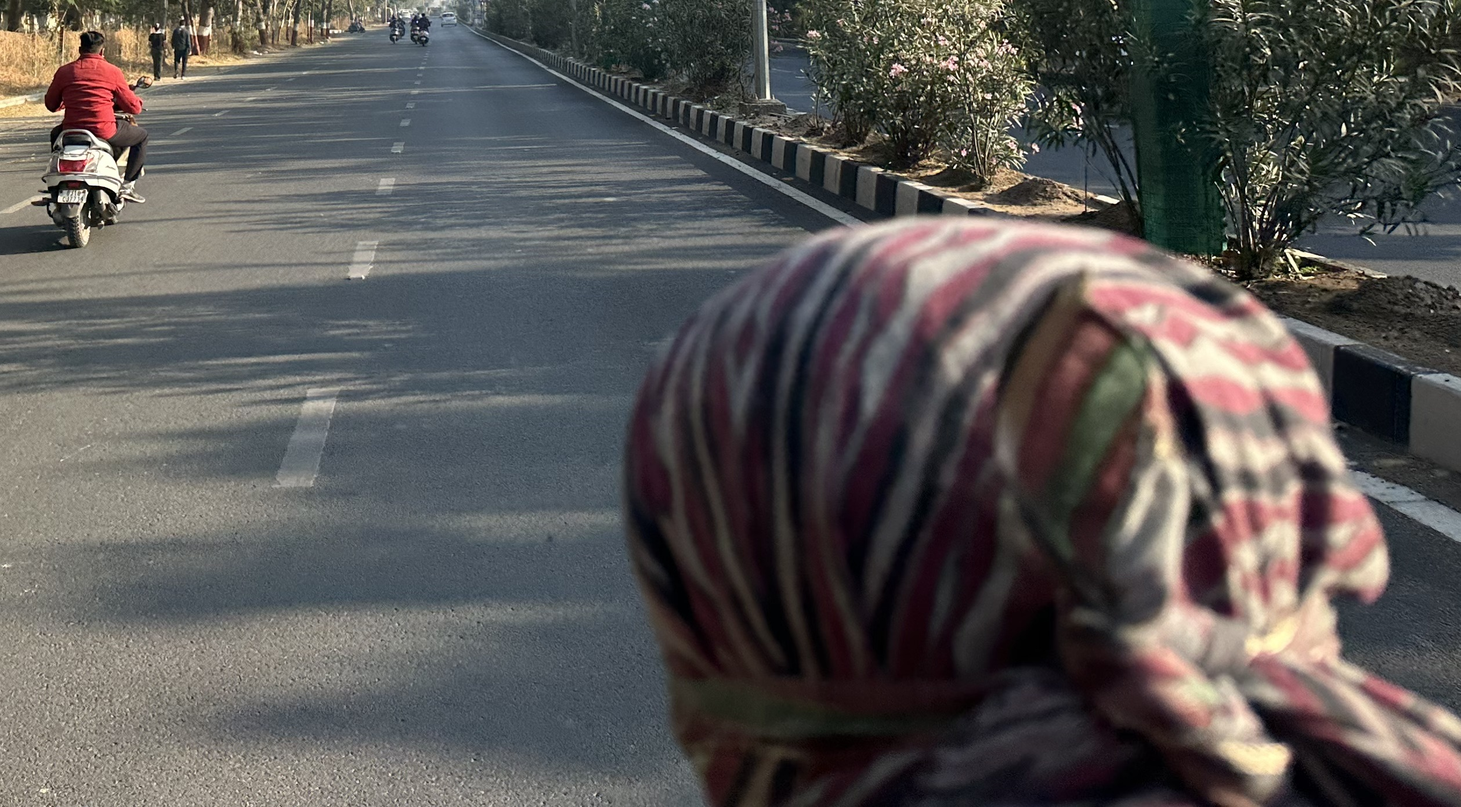BikeWithRider: (34, 27, 147, 252), (387, 11, 406, 46), (415, 9, 432, 48), (408, 10, 424, 44), (347, 13, 367, 35)
NoHelmet: (73, 27, 106, 64)
